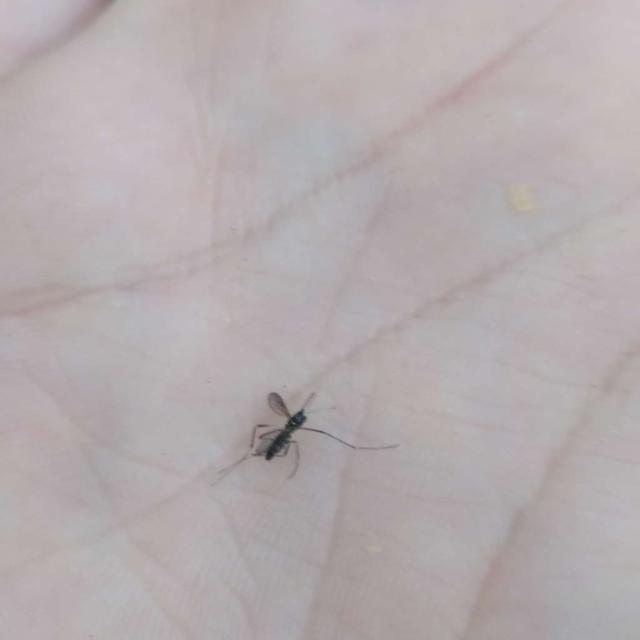albopictus: (217, 383, 394, 487)
